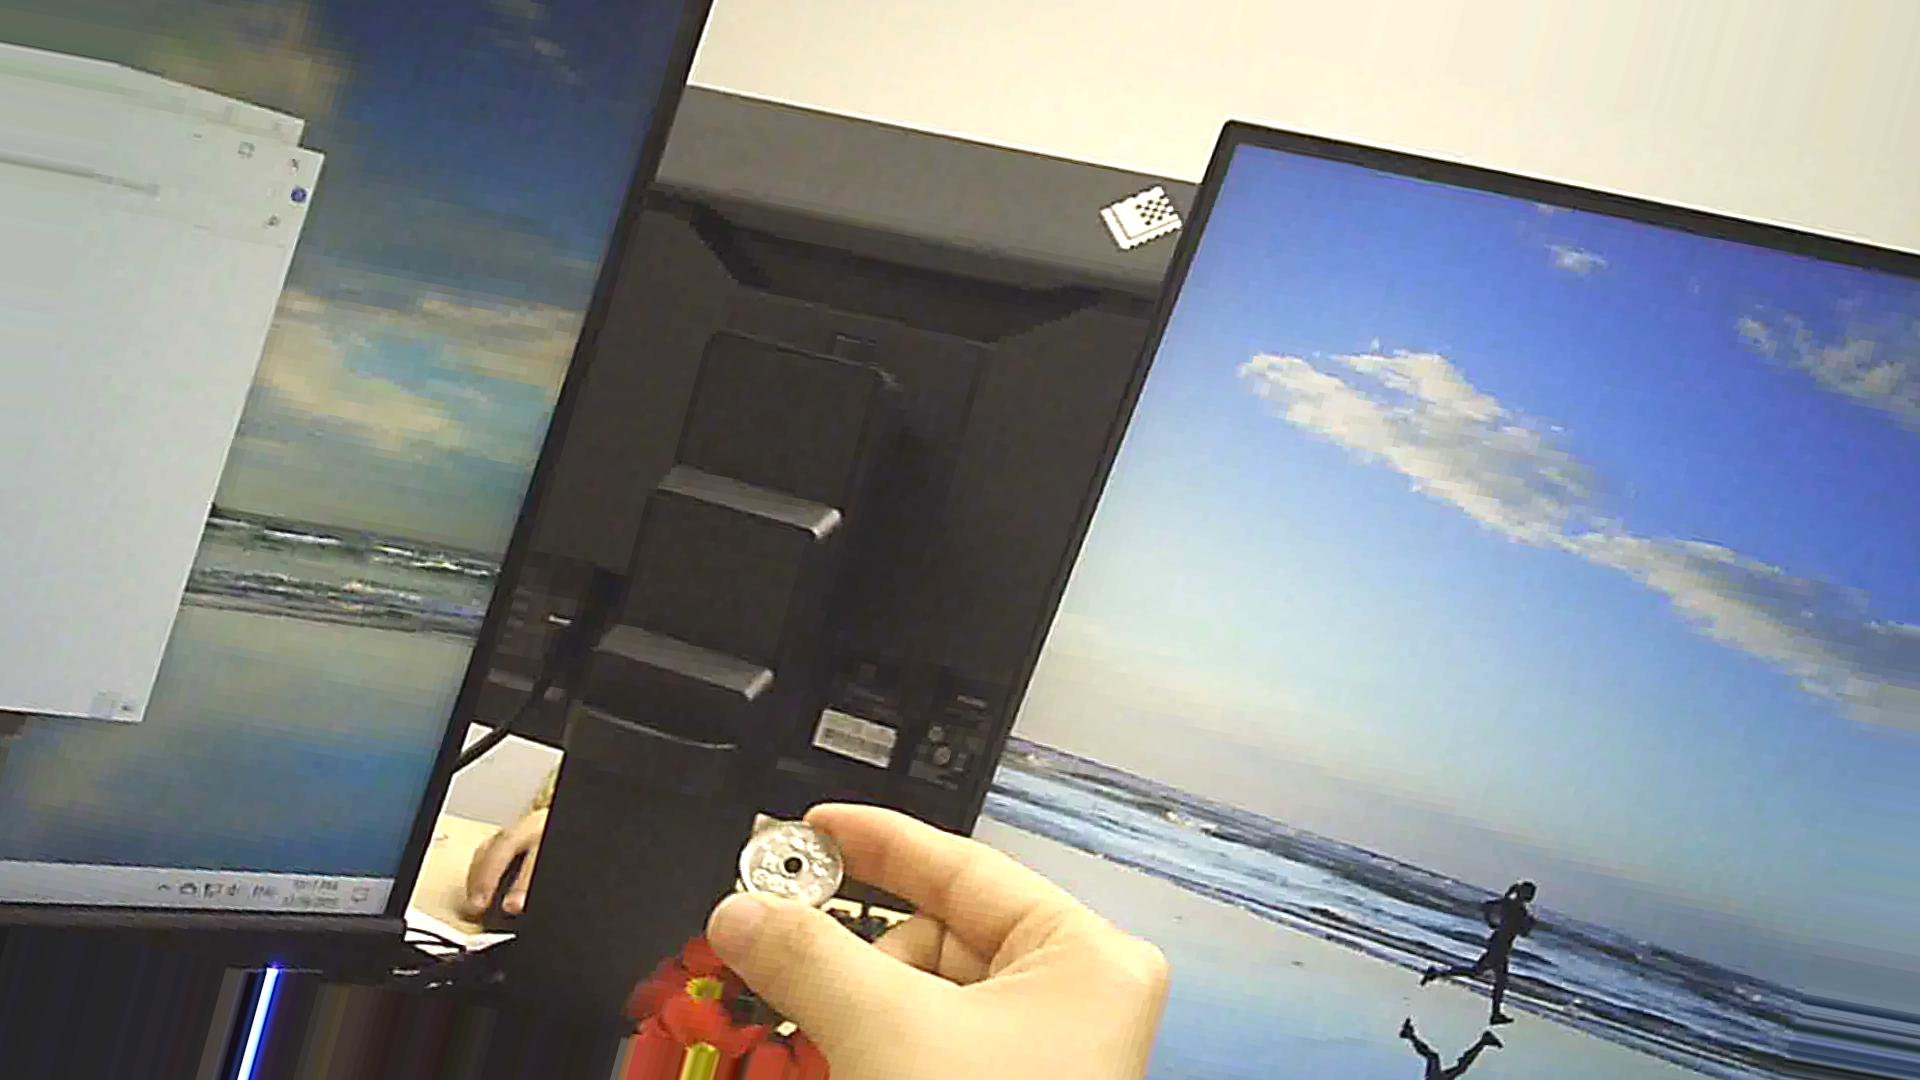50 Yen: (733, 818, 852, 922)
